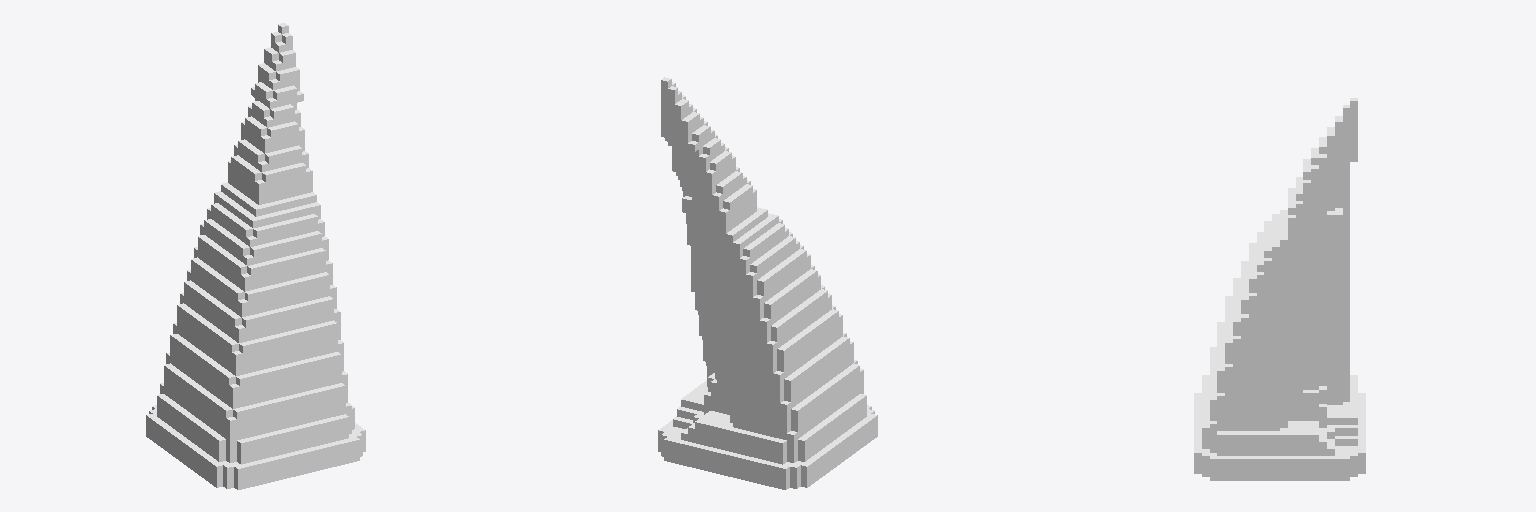
File: ObeliskOfLight.obj
3 renders of one model, left to right at view 1: azimuth 30°, elevation 25°; view 2: azimuth 150°, elevation 25°; view 3: azimuth 270°, elevation 25°, orthographic.
Parts seen in each view (by area): view 1: object 1; view 2: object 1; view 3: object 1.
Boxes of the visible parts, x1,y1,x2,y2 form: object 1: [146, 23, 365, 489]; object 1: [658, 77, 877, 489]; object 1: [1194, 98, 1365, 480].
Bounding box in the file's own units: 2.2 × 5.3 × 2.2.